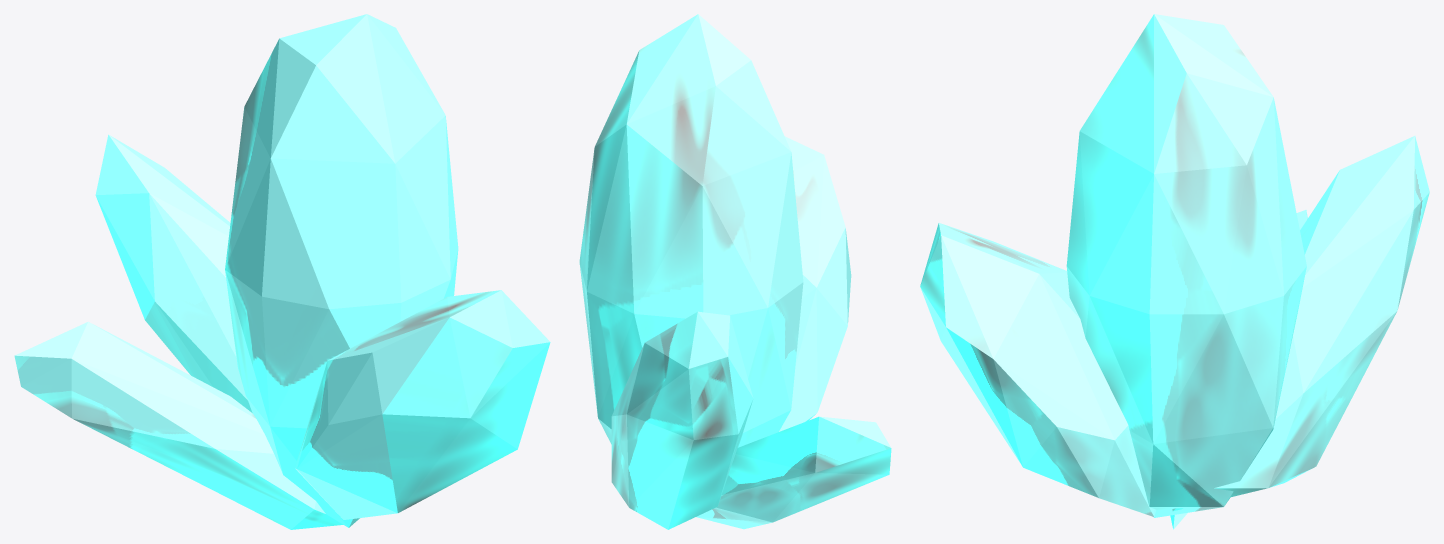
File: crystal-3.glb
3 views of the same model, side by side, from view 1: azimuth 30°, elevation 25°; view 2: azimuth 150°, elevation 25°; view 3: azimuth 270°, elevation 25° (orthographic). The views are drawn at different scales.
Visible parts, largest first — view 1: Icosphere.008; view 2: Icosphere.008; view 3: Icosphere.008.
Boxes of the visible parts, left/top/right/bottom form: Icosphere.008: left=14, top=14, right=550, bottom=529; Icosphere.008: left=579, top=14, right=891, bottom=529; Icosphere.008: left=920, top=14, right=1429, bottom=529.
Size of the model in its own units: 3.66 by 4.77 by 4.24.
